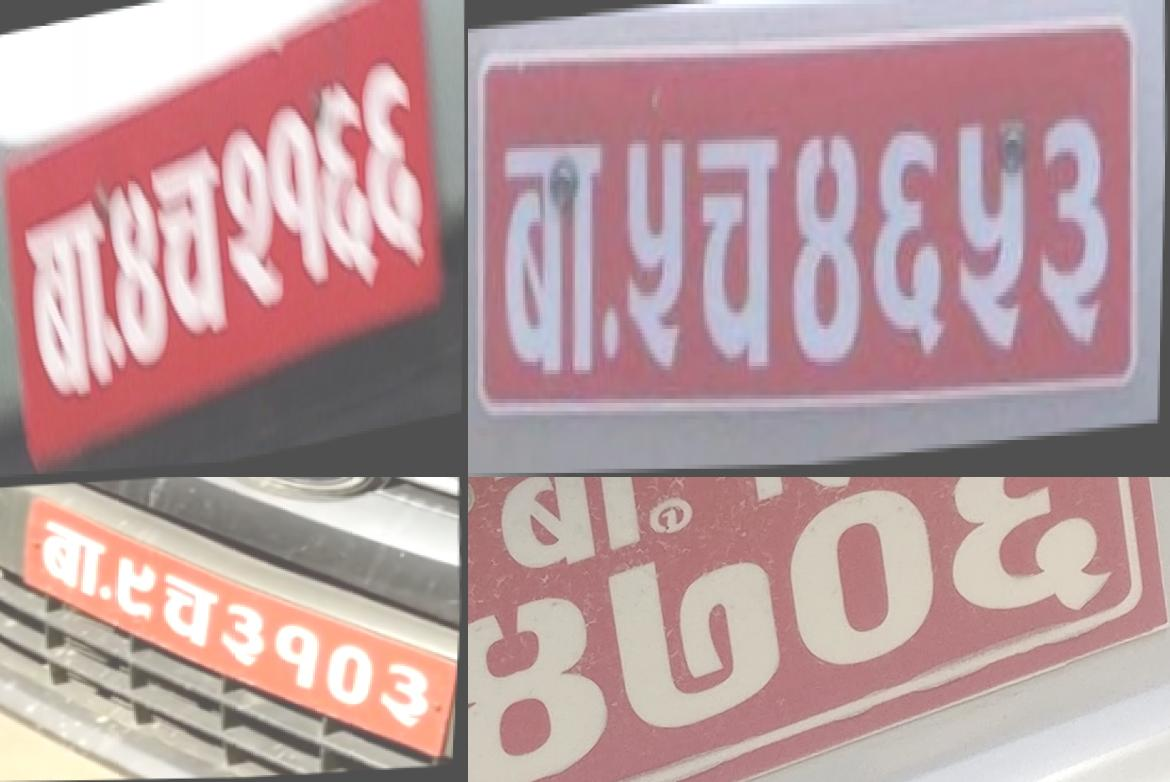0: (781, 482, 951, 675), (323, 637, 383, 714)
1: (260, 101, 333, 334), (685, 477, 794, 523), (271, 617, 328, 696)
2: (220, 116, 284, 352)
3: (1028, 110, 1122, 377), (379, 654, 438, 735), (220, 598, 274, 670)
4: (468, 586, 624, 782), (779, 126, 878, 383), (105, 168, 171, 389)
5: (945, 117, 1035, 383), (608, 127, 700, 380)
6: (936, 477, 1129, 633), (866, 121, 966, 379), (360, 45, 433, 282), (310, 74, 380, 313)
7: (602, 549, 798, 737)
9: (107, 549, 162, 626)
ba: (483, 121, 614, 384), (20, 189, 118, 427), (476, 477, 658, 574), (36, 516, 112, 606)
cha: (688, 116, 785, 386), (148, 135, 233, 380), (157, 570, 225, 654)
